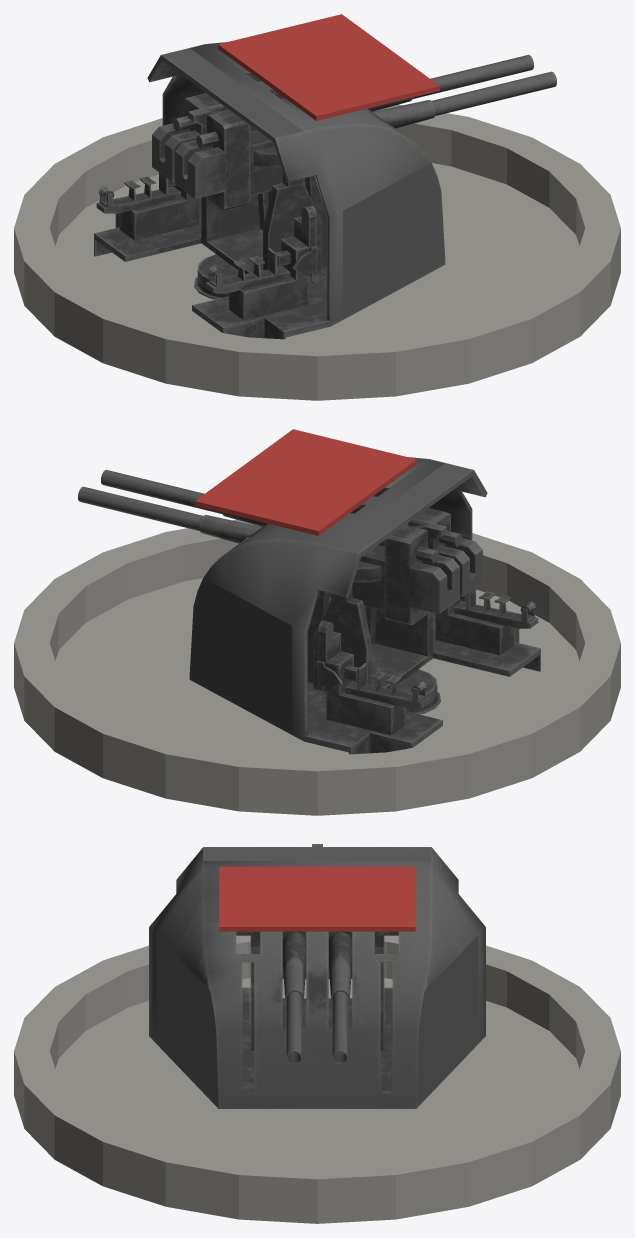
Rendered from a01_battery_gun.glb.
The picture shows the model from 3 angles, top to bottom: view 1: azimuth 30°, elevation 25°; view 2: azimuth 150°, elevation 25°; view 3: azimuth 270°, elevation 25°; orthographic projection.
Visible parts, largest first — view 1: body; view 2: body; view 3: body.
Boxes of the visible parts, bbox=[...] form: body: bbox=[14, 14, 620, 400]; body: bbox=[14, 429, 620, 815]; body: bbox=[14, 844, 620, 1223].
Bounding box in the file's own units: 1 × 0.3718 × 1.
3 materials, 1 textured.
